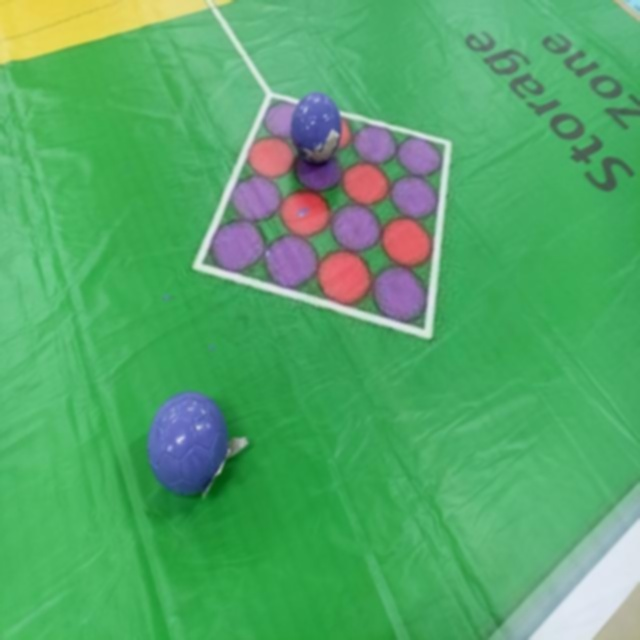purple_ball: (135, 378, 245, 497), (284, 91, 362, 167)
